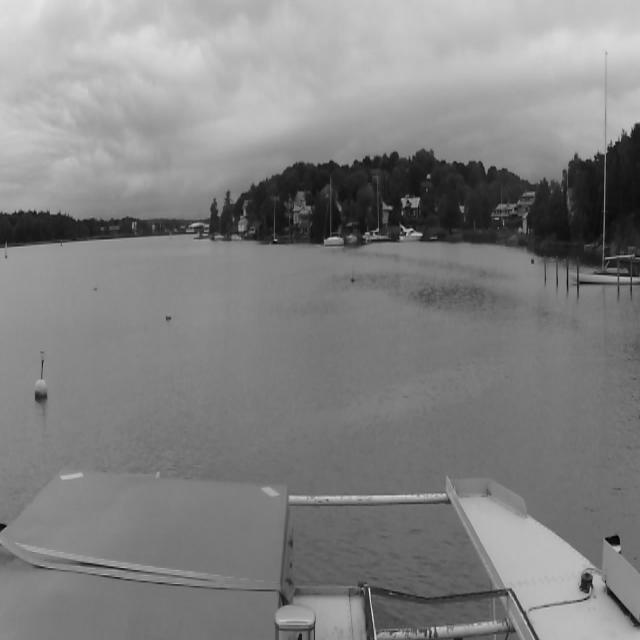buoy: (34, 349, 48, 400), (4, 242, 8, 258), (166, 313, 172, 321), (94, 284, 98, 292), (530, 257, 534, 265), (351, 276, 355, 284)
ship: (570, 50, 640, 285), (323, 177, 345, 247), (366, 176, 388, 243), (399, 224, 423, 244)
